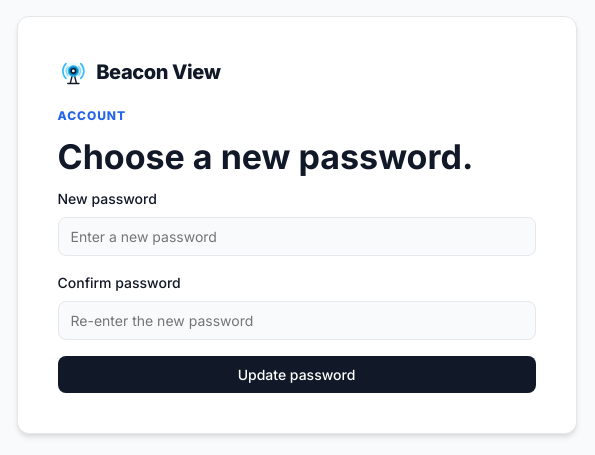
it: submits a matching password and confirms every session was signed out
Type "a brand new password" into the password field labelled "New password" at (296, 237), box [58,217,536,256]
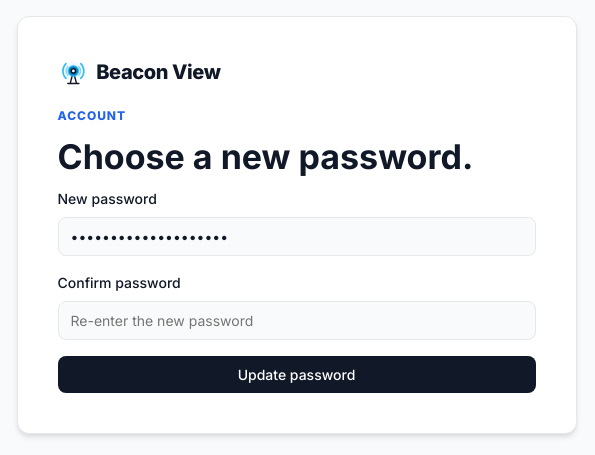
Type "a brand new password" into the password field labelled "Confirm password" at (296, 321), box [58,301,536,340]
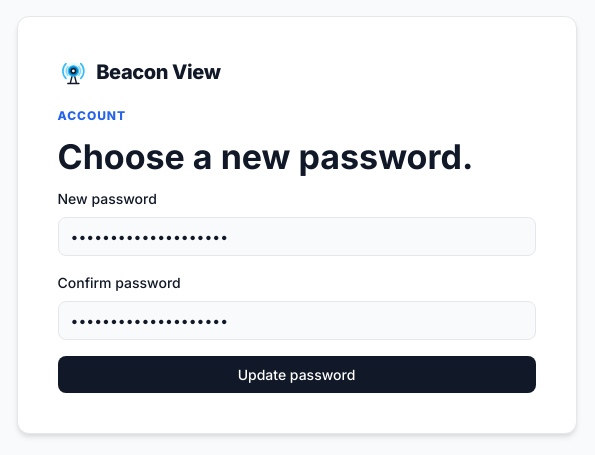
Click the button "Update password" at (296, 375), box [58,356,536,393]
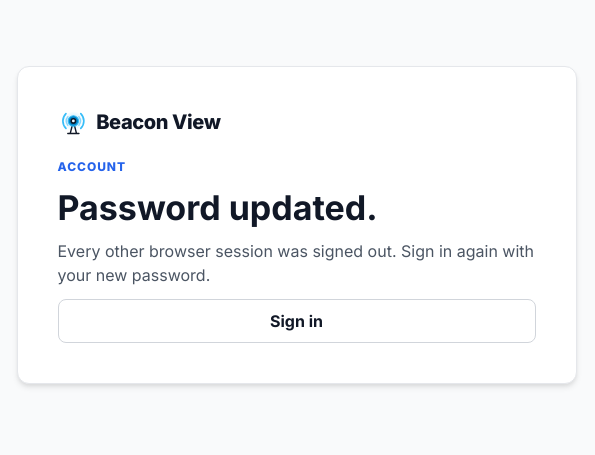
Expected: the heading "Password updated." is shown, [58,187,378,228]
Expected: the text "Every other browser session" is shown, [58,241,534,285]
